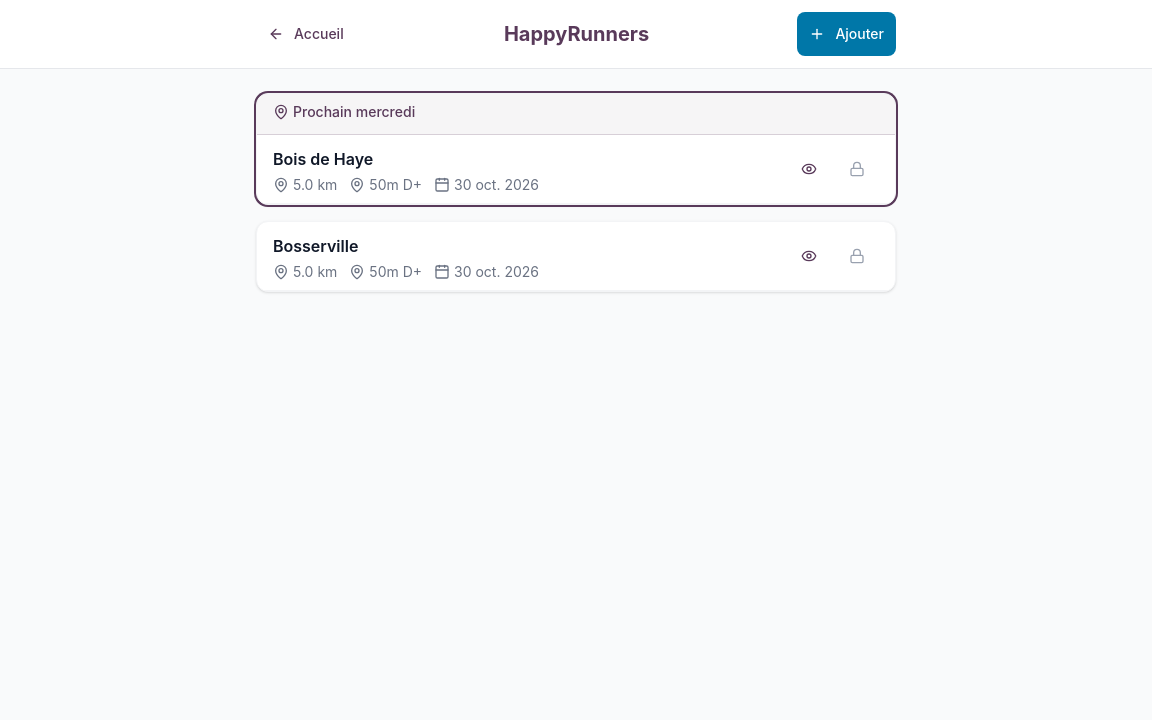
Test: ParcoursList — code administrateur › un code incorrect affiche une erreur et ne déverrouille rien
The image size is (1152, 720).
Check: the heading "Bois de Haye" is shown, box [273, 149, 373, 169]
Click the button named "Déverrouiller la gestion des parcours" in the row of "Bois de Haye": [857, 169] box [835, 147, 879, 191]
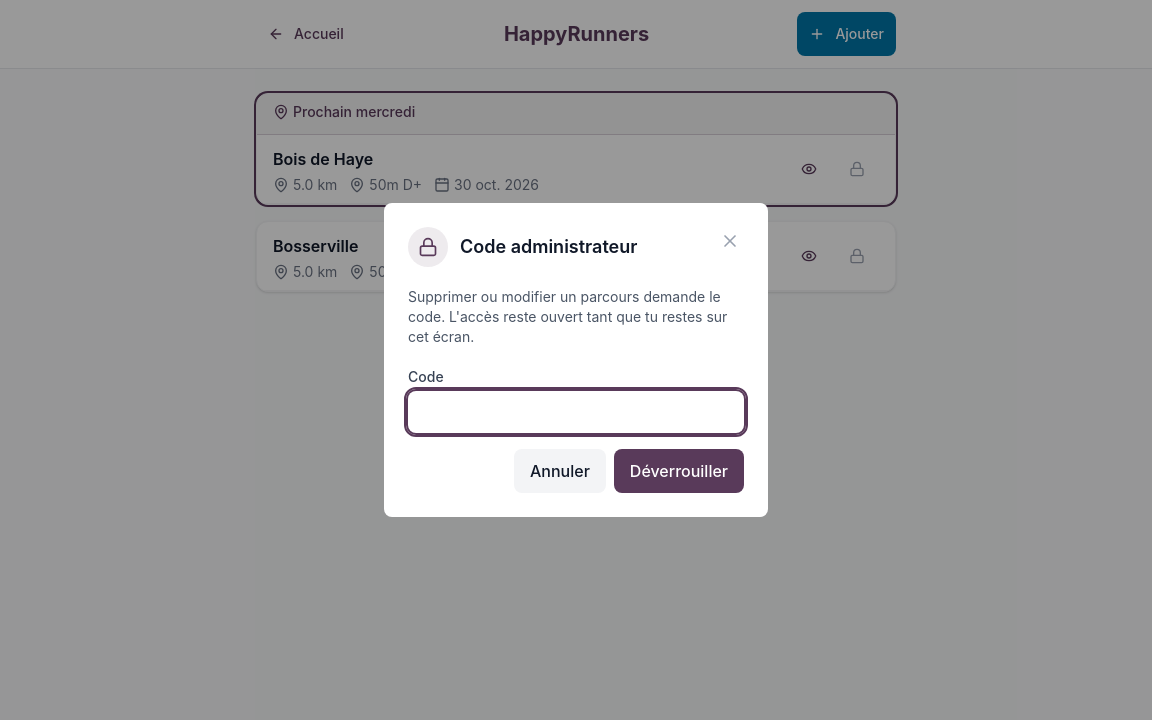
In the password field labelled "Code": [576, 412] box [408, 391, 744, 433], type "mauvais-code"
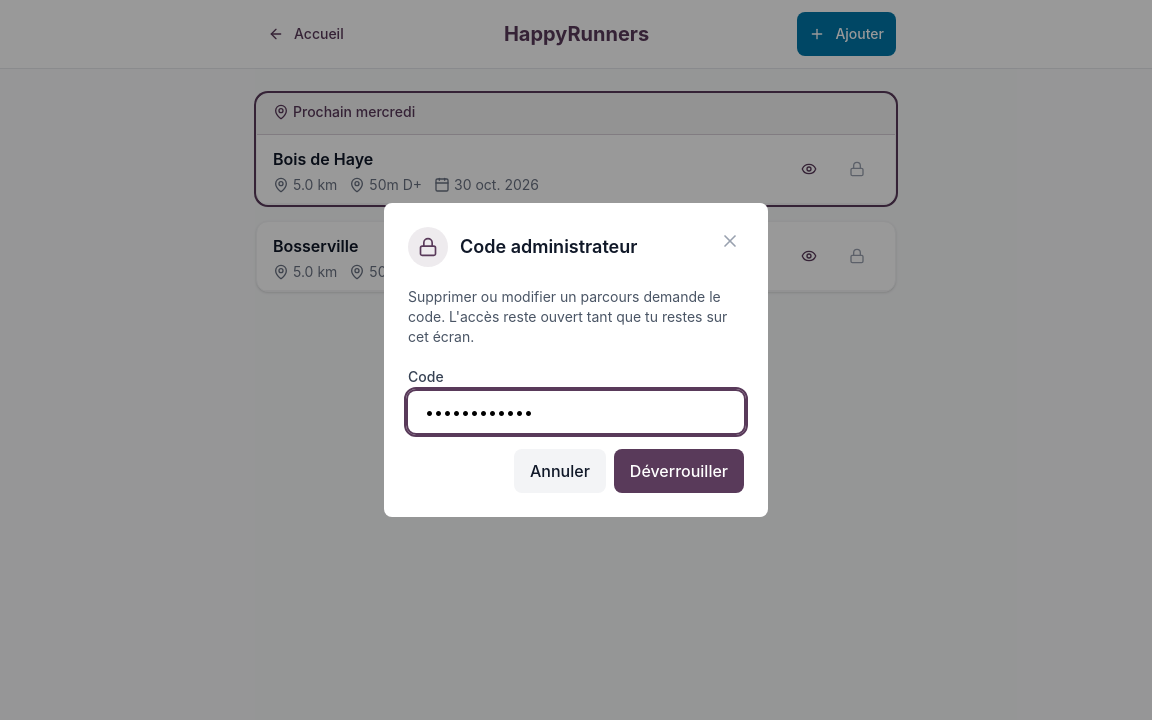
Click the button "Déverrouiller": [679, 471] box [614, 449, 744, 493]
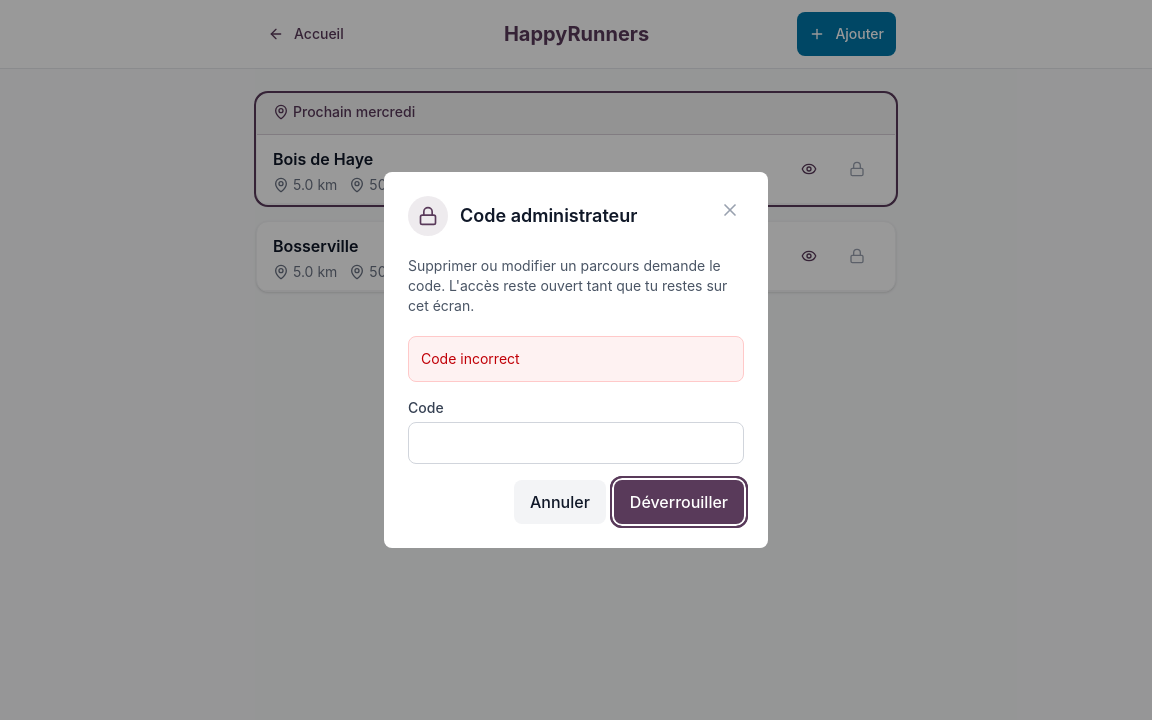
Check: the message reads "Code incorrect", box [421, 350, 520, 367]
